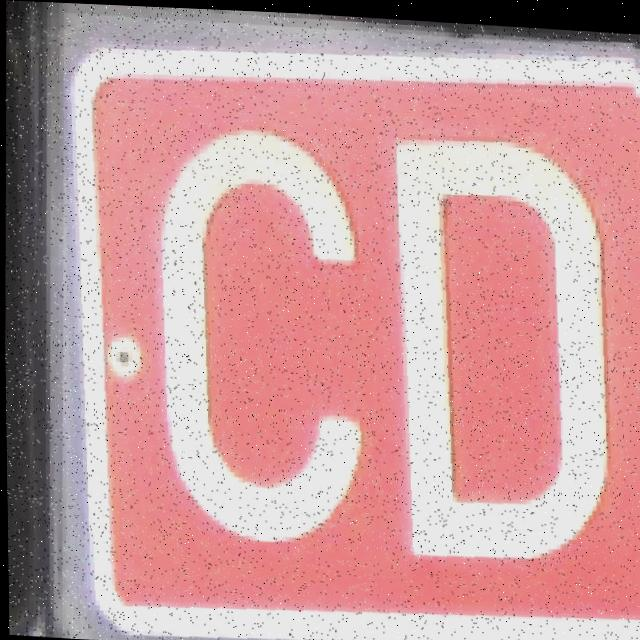LicensePlate: (52, 11, 640, 640)
